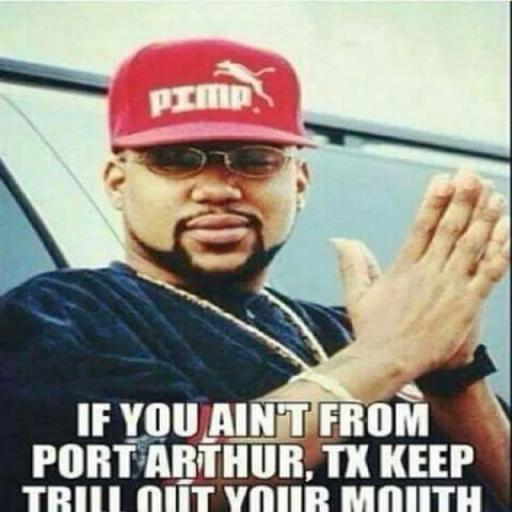Puma: (214, 56, 278, 104)
